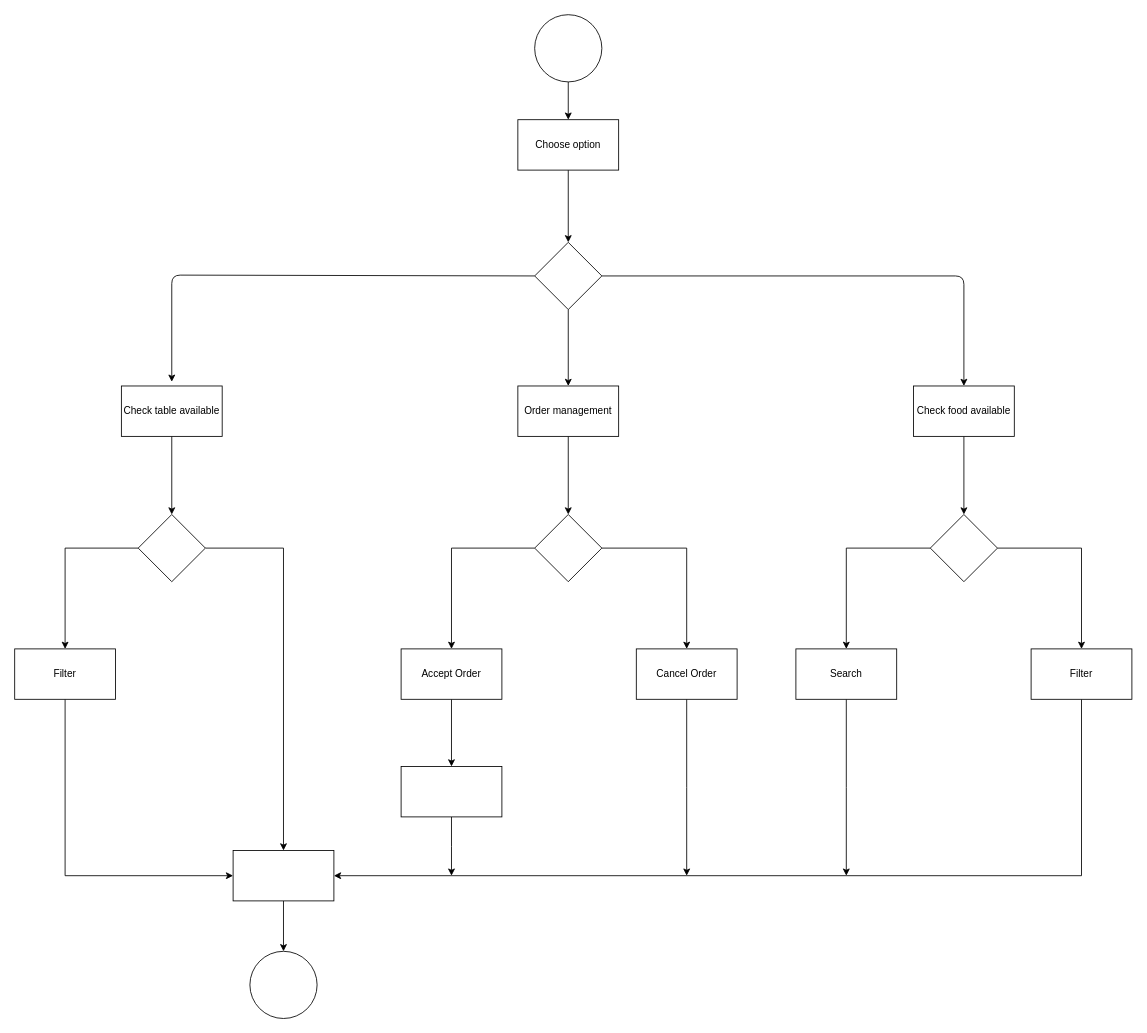
Image size: 1147x1033. Some labels were removed from this diagram. The shapes that lost their labels are listed below. From the top down, each one's centre as x and y in pixels, then its label:
At point 451,791: "Print Bill".
At point 283,875: "Return result".
